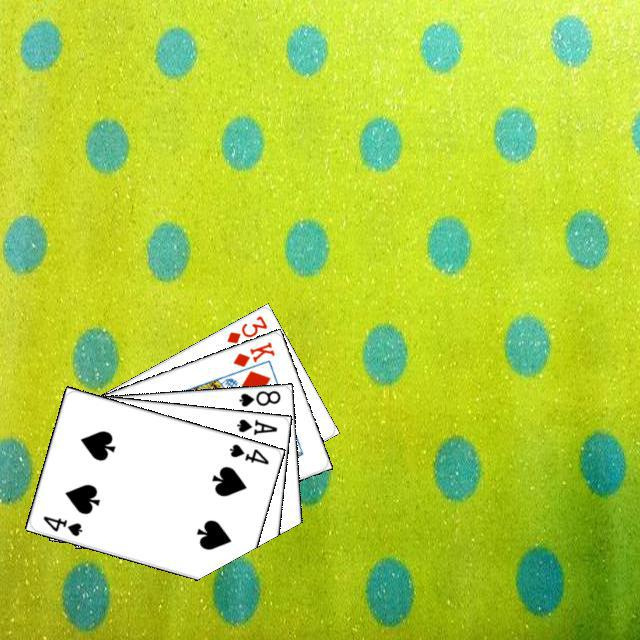3d: (222, 311, 269, 345)
4s: (224, 439, 270, 466), (38, 511, 84, 538)
8s: (234, 386, 282, 408)
As: (232, 414, 279, 437)
Kd: (228, 337, 277, 369)
